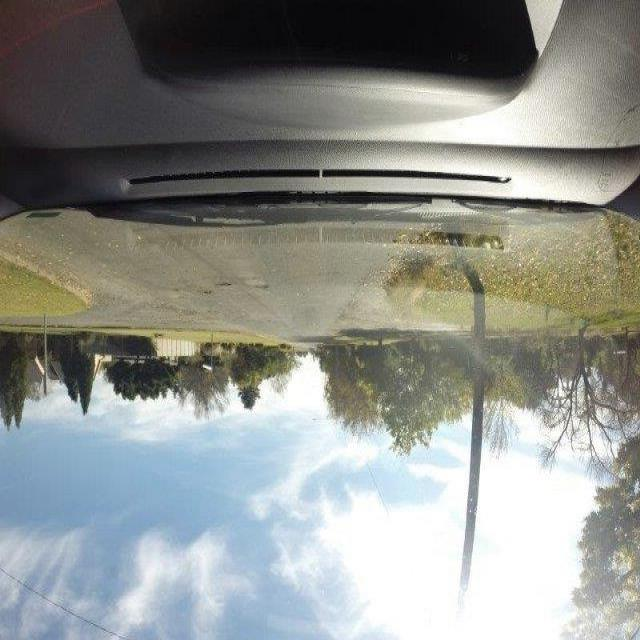lubang: (147, 301, 201, 321), (243, 277, 268, 291), (213, 280, 232, 292), (201, 288, 215, 298)
